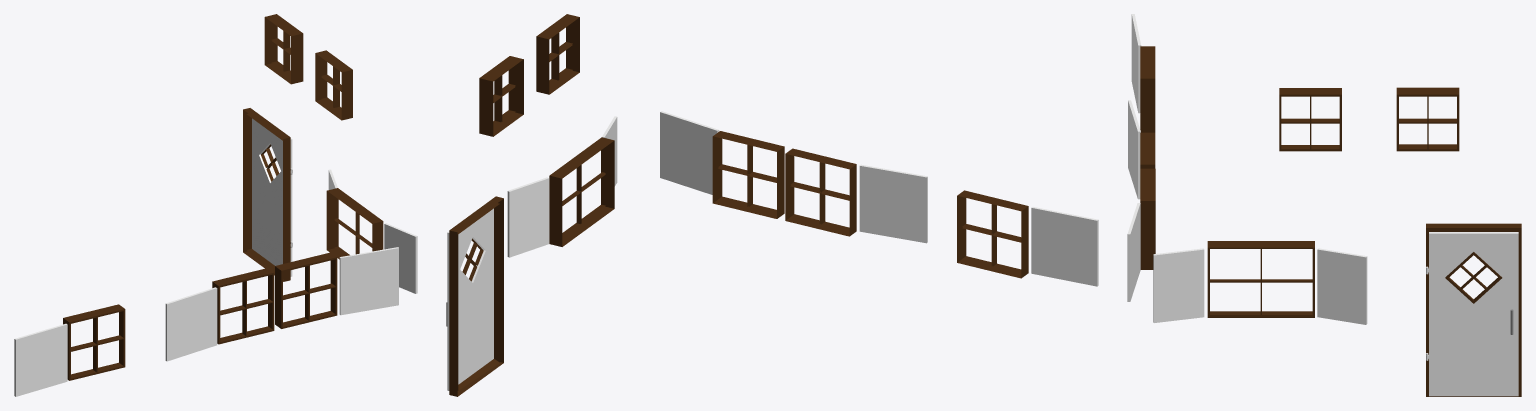
Rendered from doors.obj.
The picture shows the model from 3 angles, left to right: view 1: azimuth 30°, elevation 25°; view 2: azimuth 150°, elevation 25°; view 3: azimuth 270°, elevation 25°; orthographic projection. The views are drawn at different scales.
Parts seen in each view (by area): view 1: Tür.1, Fenster_1, Fenster.1_3, Fenster.1_4, Türrahmen, Fenster.1_2, Fenster.1_1, Fenster, Fenster.1, Fenster.3, Fenster.2, Laden1; view 2: Tür.1, Fenster.1_4, Fenster.1_3, Türrahmen, Fenster, Fenster_1, Fenster.1_2, Fenster.2, Fenster.3, Laden2, Fenster.1_1, Fenster.1; view 3: Tür.1, Laden1, Laden2, Fenster, Türrahmen, Fenster.1_1, Fenster.1, Fenster.1_2, Fenster.3, Fenster_1, Fenster.1_4, Fenster.1_3 (+2 smaller).
Part boxes in pixels (<box>): Tür.1: <box>252,118,292,276</box>; Fenster_1: <box>339,247,398,315</box>; Fenster.1_3: <box>14,323,67,396</box>; Fenster.1_4: <box>165,287,217,361</box>; Türrahmen: <box>243,108,290,281</box>; Fenster.1_2: <box>275,252,337,328</box>; Fenster.1_1: <box>264,14,303,84</box>; Fenster: <box>326,188,383,259</box>; Fenster.1: <box>315,50,352,120</box>; Fenster.3: <box>63,304,125,380</box>; Fenster.2: <box>212,268,274,344</box>; Laden1: <box>384,223,417,293</box>; Tür.1: <box>447,208,493,390</box>; Fenster.1_4: <box>859,164,927,243</box>; Fenster.1_3: <box>1031,207,1098,286</box>; Türrahmen: <box>449,196,503,396</box>; Fenster: <box>549,137,614,246</box>; Fenster_1: <box>660,111,719,194</box>; Fenster.1_2: <box>712,131,784,218</box>; Fenster.2: <box>785,148,856,236</box>; Fenster.3: <box>957,190,1028,278</box>; Laden2: <box>507,177,548,257</box>; Fenster.1_1: <box>479,56,523,136</box>; Fenster.1: <box>536,14,579,94</box>; Tür.1: <box>1429,232,1518,396</box>; Laden1: <box>1153,248,1204,322</box>; Laden2: <box>1317,248,1367,324</box>; Fenster: <box>1207,241,1314,317</box>; Türrahmen: <box>1426,223,1521,396</box>; Fenster.1_1: <box>1396,87,1459,151</box>; Fenster.1: <box>1279,88,1341,151</box>; Fenster.1_2: <box>1140,168,1155,269</box>; Fenster.3: <box>1140,46,1155,132</box>; Fenster_1: <box>1127,203,1140,301</box>; Fenster.1_4: <box>1128,100,1140,199</box>; Fenster.1_3: <box>1131,14,1141,113</box>.
Bounding box in the file's own units: 3.79 × 2.24 × 2.64.
